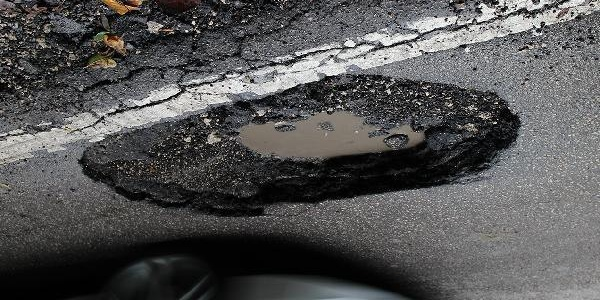pothole: (73, 71, 522, 221)
